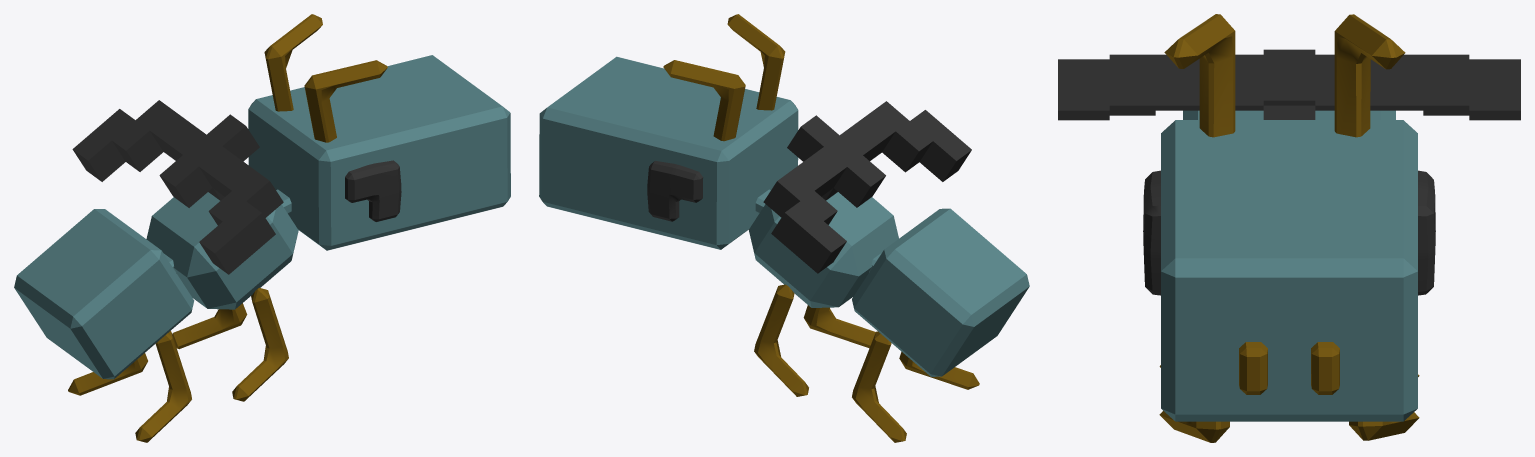
File: Enemy3Zoomer.fbx
The picture shows the model from 3 angles, left to right: view 1: azimuth 30°, elevation 25°; view 2: azimuth 150°, elevation 25°; view 3: azimuth 270°, elevation 25°; orthographic projection. The views are drawn at different scales.
Parts seen in each view (by area): view 1: pasted__pasted__pasted__polySurface4, pasted__pasted__Torso2, pasted__pasted__Jetpack, pasted__pasted__Torso1, pasted__pasted__pasted__Antennae1, pasted__pasted__pasted__polySurface5, pasted__pasted__Leg4, pasted__pasted__Leg2, pasted__pasted__pasted__Antennae2, pasted__pasted__Leg3, pasted__pasted__Leg1; view 2: pasted__pasted__pasted__polySurface4, pasted__pasted__Torso2, pasted__pasted__Jetpack, pasted__pasted__Torso1, pasted__pasted__pasted__Antennae2, pasted__pasted__pasted__polySurface6, pasted__pasted__Leg3, pasted__pasted__Leg1, pasted__pasted__pasted__Antennae1, pasted__pasted__Leg4, pasted__pasted__Leg2; view 3: pasted__pasted__pasted__polySurface4, pasted__pasted__Jetpack, pasted__pasted__pasted__Antennae1, pasted__pasted__pasted__Antennae2, pasted__pasted__pasted__polySurface5, pasted__pasted__pasted__polySurface6, pasted__pasted__pasted__polySurface2, pasted__pasted__pasted__polySurface3, pasted__pasted__Leg3, pasted__pasted__Leg4, pasted__pasted__Torso2.
Boxes of the visible parts, box(x1,y1,x2,y2) form: pasted__pasted__pasted__polySurface4: box(248, 55, 510, 250); pasted__pasted__Torso2: box(14, 209, 194, 379); pasted__pasted__Jetpack: box(72, 100, 283, 274); pasted__pasted__Torso1: box(146, 192, 298, 309); pasted__pasted__pasted__Antennae1: box(304, 60, 387, 142); pasted__pasted__pasted__polySurface5: box(345, 160, 401, 221); pasted__pasted__Leg4: box(232, 287, 288, 401); pasted__pasted__Leg2: box(135, 331, 191, 442); pasted__pasted__pasted__Antennae2: box(264, 14, 322, 111); pasted__pasted__Leg3: box(172, 303, 247, 349); pasted__pasted__Leg1: box(68, 353, 147, 395); pasted__pasted__pasted__polySurface4: box(539, 56, 798, 249); pasted__pasted__Torso2: box(852, 208, 1029, 376); pasted__pasted__Jetpack: box(763, 101, 971, 273); pasted__pasted__Torso1: box(749, 192, 898, 307); pasted__pasted__pasted__Antennae2: box(663, 60, 745, 141); pasted__pasted__pasted__polySurface6: box(647, 161, 703, 221); pasted__pasted__Leg3: box(754, 284, 808, 396); pasted__pasted__Leg1: box(852, 331, 906, 442); pasted__pasted__pasted__Antennae1: box(727, 14, 785, 110); pasted__pasted__Leg4: box(803, 305, 875, 348); pasted__pasted__Leg2: box(899, 352, 979, 389); pasted__pasted__pasted__polySurface4: box(1161, 120, 1417, 421); pasted__pasted__Jetpack: box(1058, 49, 1520, 120); pasted__pasted__pasted__Antennae1: box(1164, 14, 1235, 137); pasted__pasted__pasted__Antennae2: box(1334, 14, 1405, 137); pasted__pasted__pasted__polySurface5: box(1143, 170, 1160, 295); pasted__pasted__pasted__polySurface6: box(1418, 170, 1435, 295); pasted__pasted__pasted__polySurface2: box(1239, 342, 1267, 394); pasted__pasted__pasted__polySurface3: box(1311, 342, 1339, 394); pasted__pasted__Leg3: box(1349, 412, 1419, 440); pasted__pasted__Leg4: box(1159, 411, 1229, 442); pasted__pasted__Torso2: box(1183, 110, 1395, 119).
Size of the model in its own units: 48.51 by 34.34 by 27.
